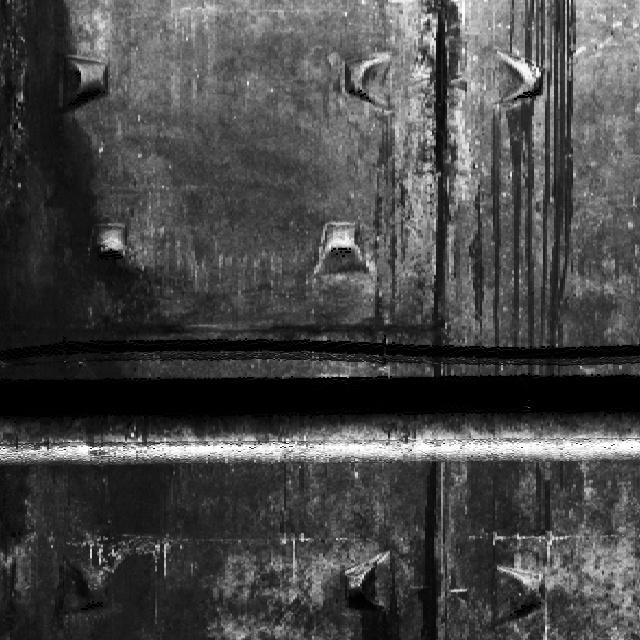leakage: (0, 0, 170, 375), (9, 449, 292, 639), (470, 0, 578, 373), (415, 1, 464, 376), (411, 456, 448, 639)
